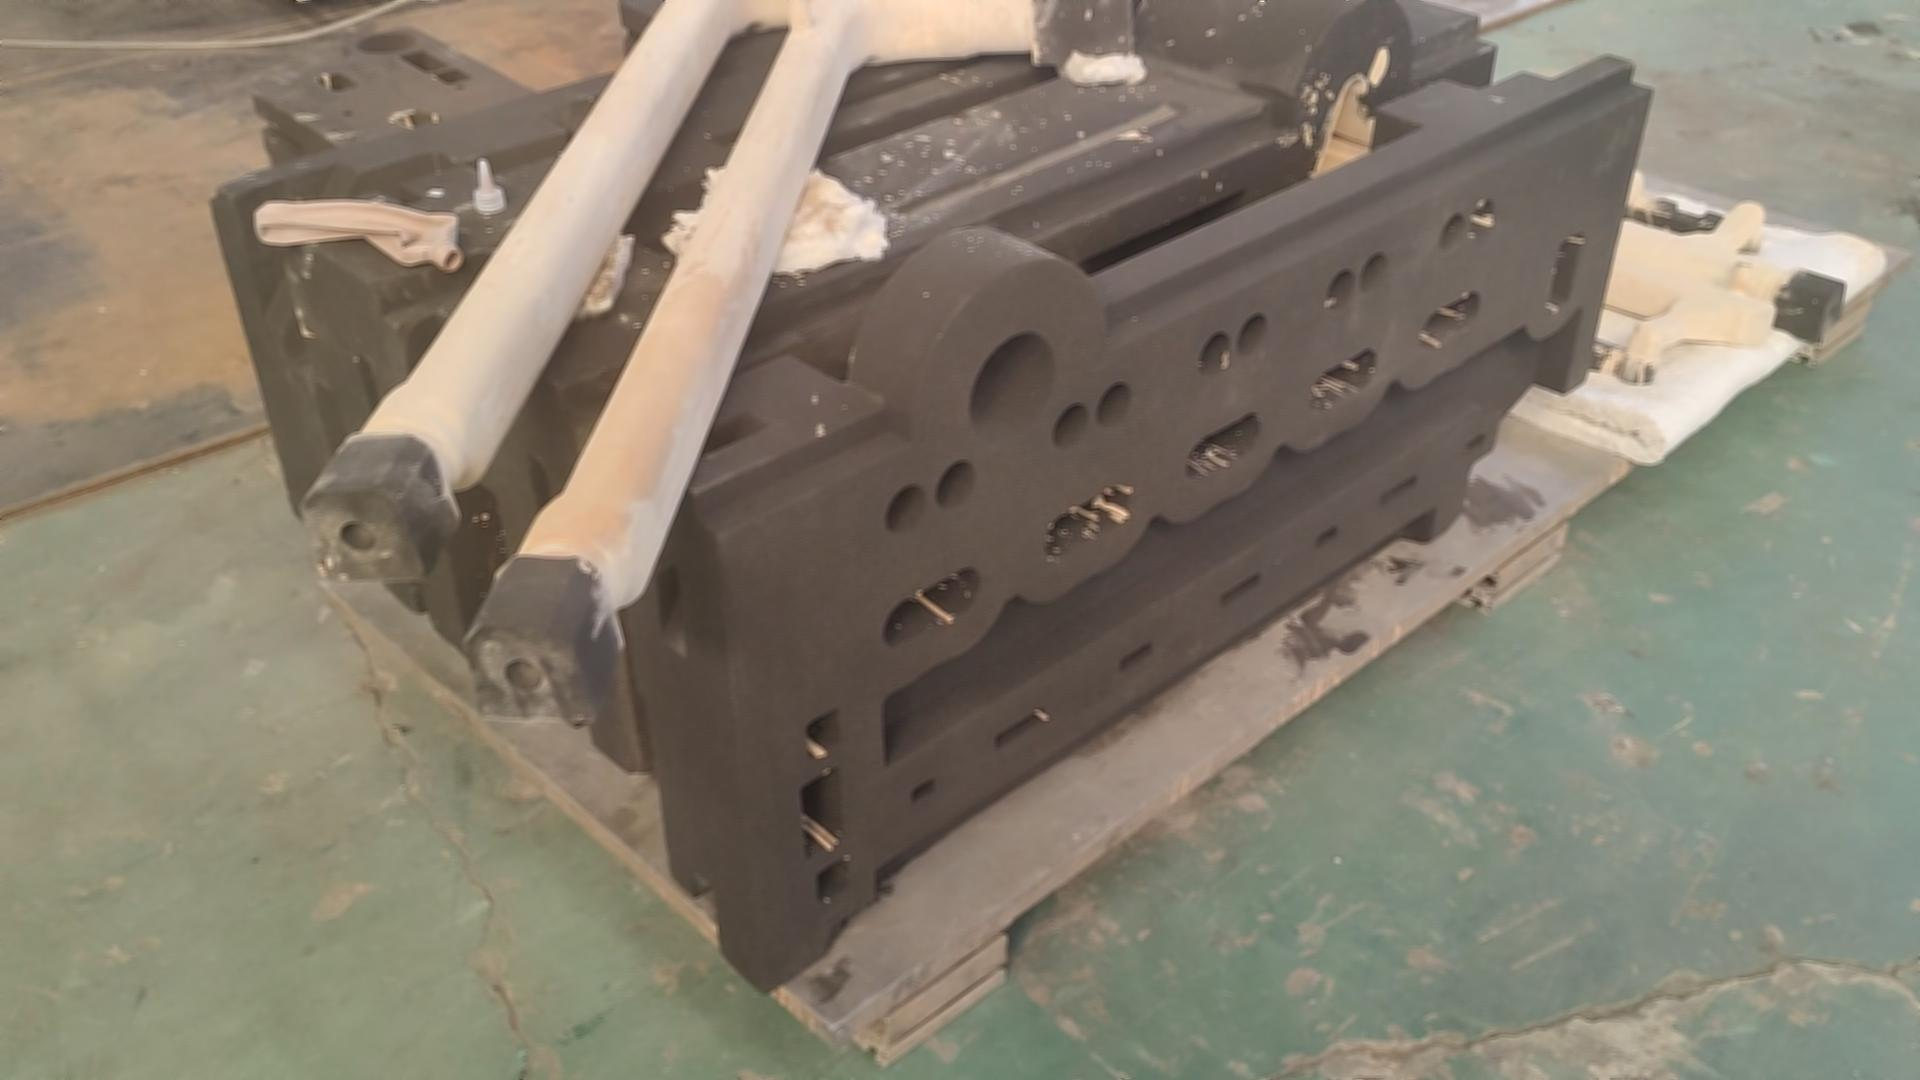pouring hole: (967, 327, 1058, 436), (352, 29, 419, 54)
